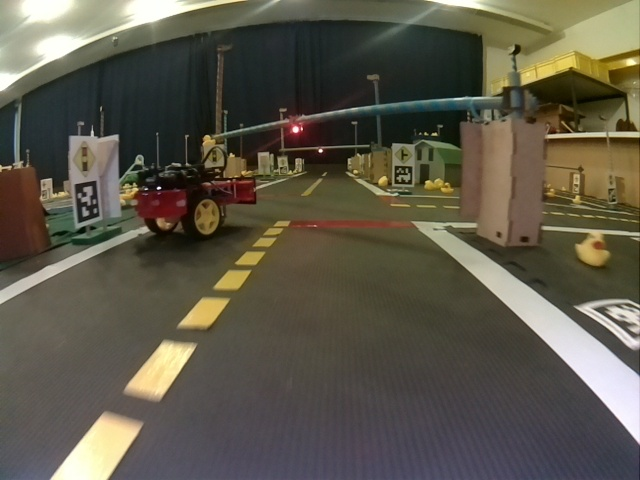Duckie: (575, 232, 607, 268), (442, 183, 451, 193), (378, 176, 387, 186), (424, 180, 432, 190), (575, 195, 582, 205)
Duckiebot: (138, 162, 256, 234)
Intersection sign: (396, 145, 413, 164)
QR code: (586, 301, 636, 348), (74, 185, 101, 222), (396, 169, 413, 184)
Signal sign: (72, 141, 95, 178)
Traffic light: (291, 125, 301, 134), (317, 148, 326, 156)
